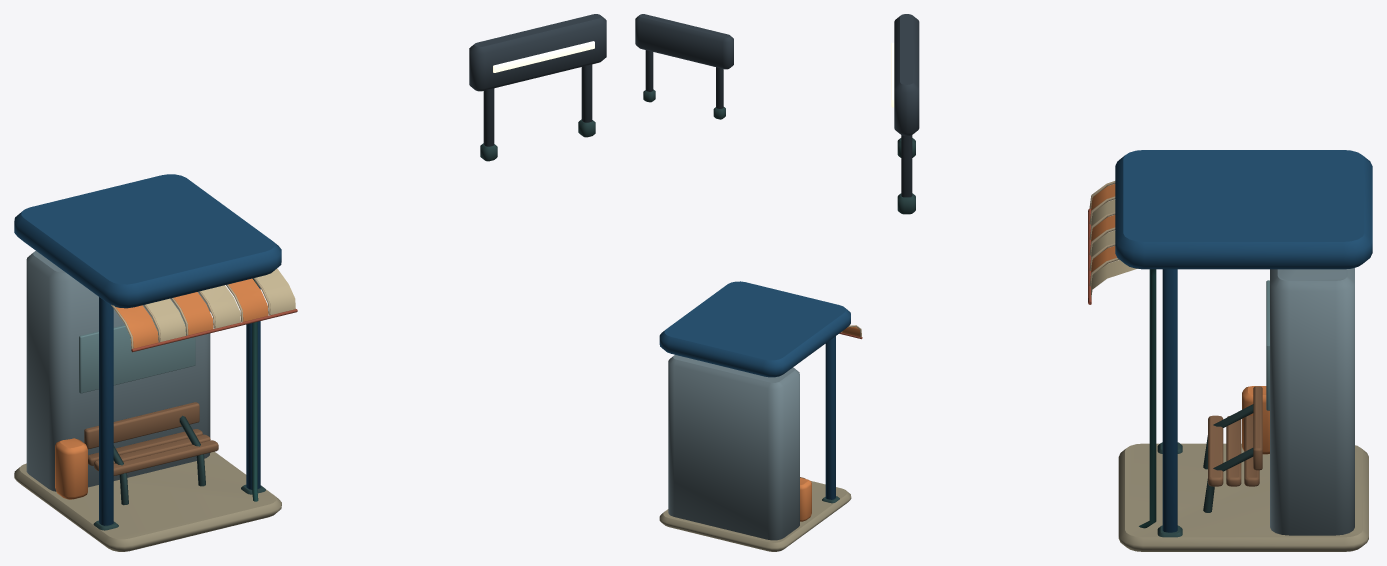
Rendered from metro_truck_park_4.glb.
3 renders of one model, left to right at view 1: azimuth 30°, elevation 25°; view 2: azimuth 150°, elevation 25°; view 3: azimuth 270°, elevation 25°, orthographic. The views are drawn at different scales.
Visible parts, largest first — view 1: TruckPark4; view 2: TruckPark4; view 3: TruckPark4.
Boxes of the visible parts, x1,y1,x2,y2 form: TruckPark4: (14, 14, 606, 551); TruckPark4: (635, 14, 862, 551); TruckPark4: (891, 14, 1372, 551).
Bounding box in the file's own units: 5.28 × 6.49 × 4.77.
